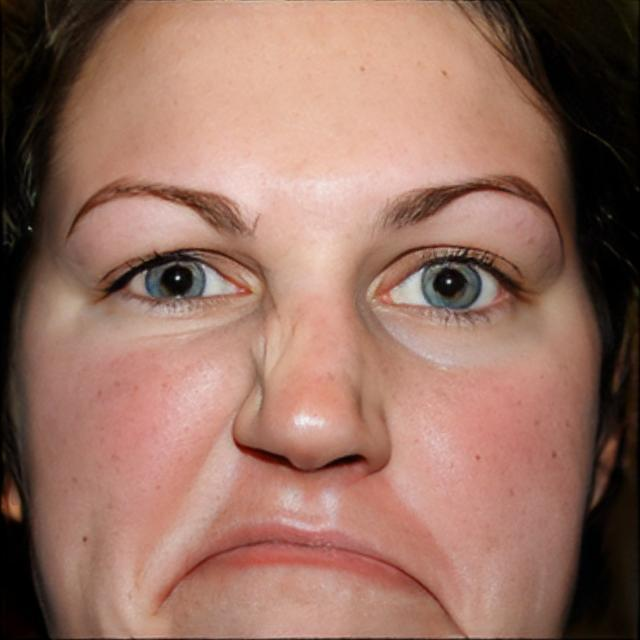disgust: (5, 0, 603, 640)
